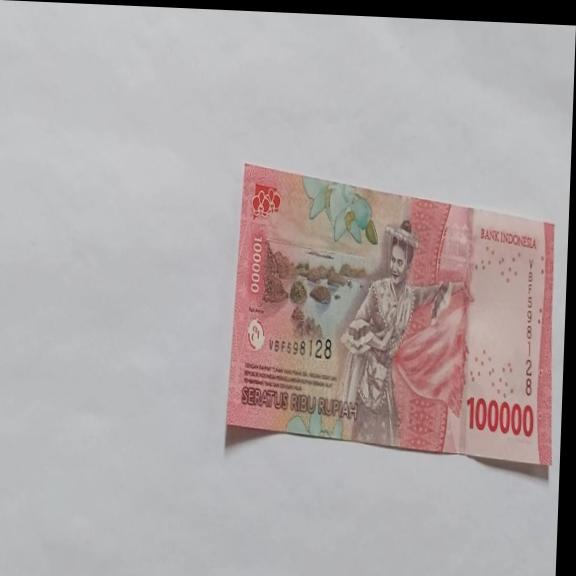Kertas: (224, 162, 560, 472), (464, 394, 536, 439)
